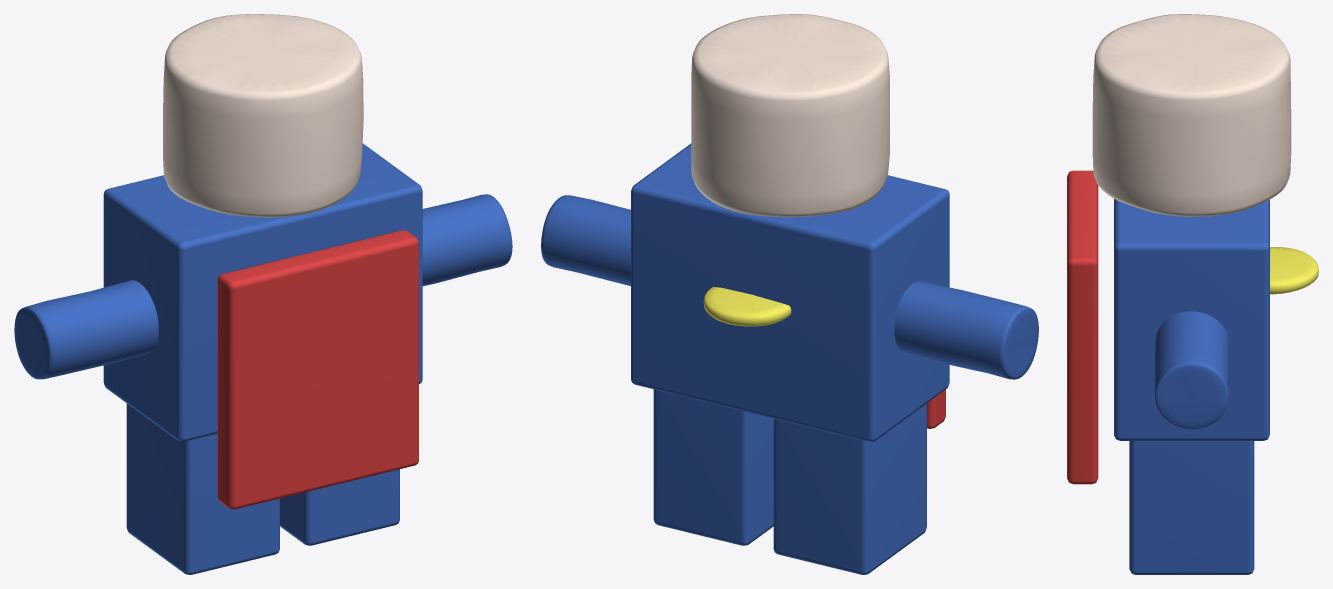
The model's file is lego_superman.glb.
The picture shows the model from 3 angles, left to right: view 1: azimuth 30°, elevation 25°; view 2: azimuth 150°, elevation 25°; view 3: azimuth 270°, elevation 25°; orthographic projection.
Parts seen in each view (by area): view 1: 披风, 头部, 身体, 左腿, 左臂, 右臂, 右腿; view 2: 身体, 头部, 左腿, 右腿, 左臂, 右臂, 胸章; view 3: 头部, 身体, 右腿, 披风, 右臂, 胸章.
Boxes of the visible parts, left/top/right/bottom form: 披风: left=217, top=230, right=418, bottom=509; 头部: left=163, top=14, right=363, bottom=217; 身体: left=103, top=143, right=422, bottom=441; 左腿: left=126, top=403, right=279, bottom=574; 左臂: left=14, top=280, right=158, bottom=379; 右臂: left=422, top=194, right=512, bottom=286; 右腿: left=280, top=469, right=399, bottom=545; 身体: left=631, top=143, right=949, bottom=441; 头部: left=691, top=14, right=889, bottom=217; 左腿: left=773, top=403, right=926, bottom=574; 右腿: left=653, top=389, right=773, bottom=545; 左臂: left=894, top=281, right=1038, bottom=379; 右臂: left=541, top=195, right=630, bottom=286; 胸章: left=703, top=287, right=791, bottom=326; 头部: left=1092, top=14, right=1291, bottom=216; 身体: left=1114, top=199, right=1269, bottom=440; 右腿: left=1129, top=441, right=1254, bottom=574; 披风: left=1067, top=170, right=1098, bottom=484; 右臂: left=1154, top=311, right=1229, bottom=429; 胸章: left=1270, top=247, right=1318, bottom=294.
Size of what is drawn, in the model's own units: 1.7 by 1.68 by 0.8072.
